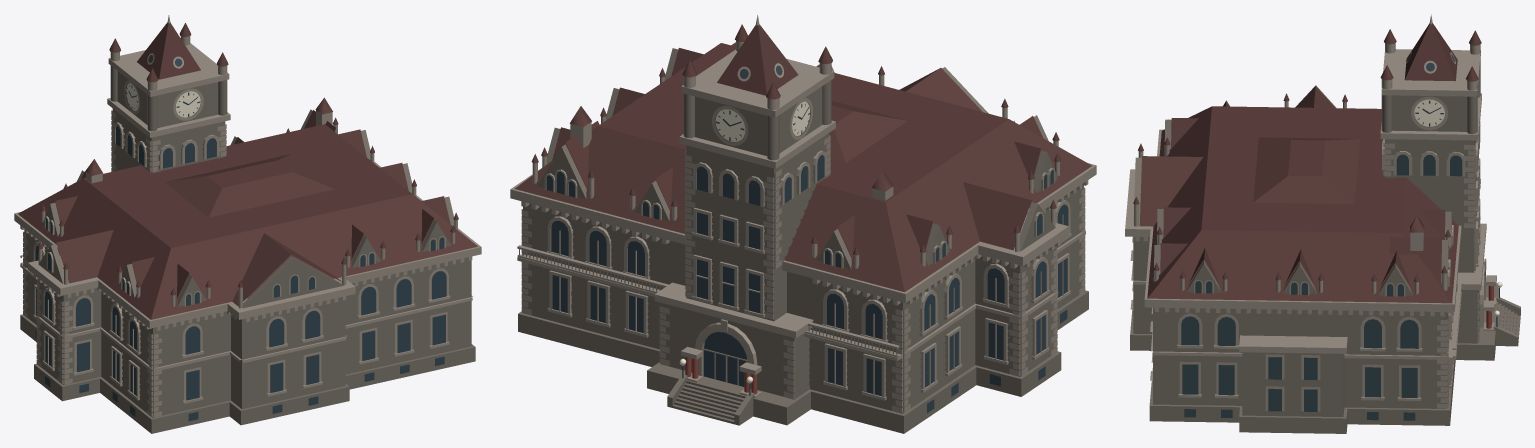
File: calgary-city-hall-near.glb
The picture shows the model from 3 angles, left to right: view 1: azimuth 30°, elevation 25°; view 2: azimuth 150°, elevation 25°; view 3: azimuth 270°, elevation 25°; orthographic projection. The views are drawn at different scales.
Parts seen in each view (by area): view 1: calgary-city-hall-0-roof, calgary-city-hall-0-stone, calgary-city-hall-0-trim, calgary-city-hall-0-glass, calgary-city-hall-0-lamp; view 2: calgary-city-hall-0-stone, calgary-city-hall-0-roof, calgary-city-hall-0-trim, calgary-city-hall-0-glass, calgary-city-hall-0-lamp; view 3: calgary-city-hall-0-roof, calgary-city-hall-0-stone, calgary-city-hall-0-trim, calgary-city-hall-0-glass, calgary-city-hall-0-lamp.
Boxes of the visible parts, box(x1,y1,x2,y2) form: calgary-city-hall-0-roof: box(18, 22, 477, 319); calgary-city-hall-0-stone: box(20, 65, 475, 433); calgary-city-hall-0-trim: box(14, 15, 481, 417); calgary-city-hall-0-glass: box(35, 55, 446, 421); calgary-city-hall-0-lamp: box(126, 83, 200, 117); calgary-city-hall-0-stone: box(518, 48, 1088, 433); calgary-city-hall-0-roof: box(515, 24, 1091, 292); calgary-city-hall-0-trim: box(510, 15, 1096, 413); calgary-city-hall-0-glass: box(546, 65, 1067, 413); calgary-city-hall-0-lamp: box(679, 101, 809, 383); calgary-city-hall-0-roof: box(1133, 23, 1481, 303); calgary-city-hall-0-stone: box(1130, 60, 1520, 433); calgary-city-hall-0-trim: box(1125, 14, 1496, 411); calgary-city-hall-0-glass: box(1181, 54, 1499, 420); calgary-city-hall-0-lamp: box(1414, 99, 1502, 316).
Bounding box in the file's own units: 44.11 × 32.7 × 37.17.
